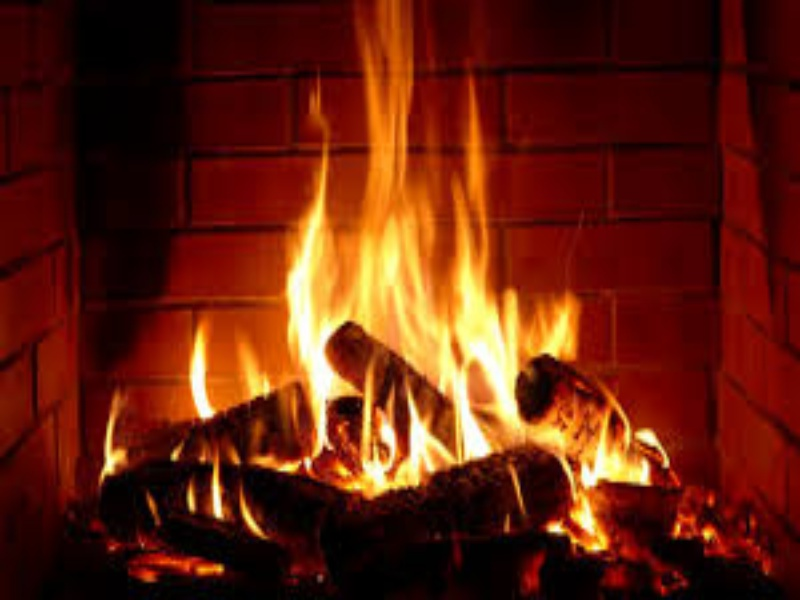fire: (284, 1, 580, 485), (175, 320, 222, 419), (578, 439, 655, 488), (100, 388, 126, 475)
